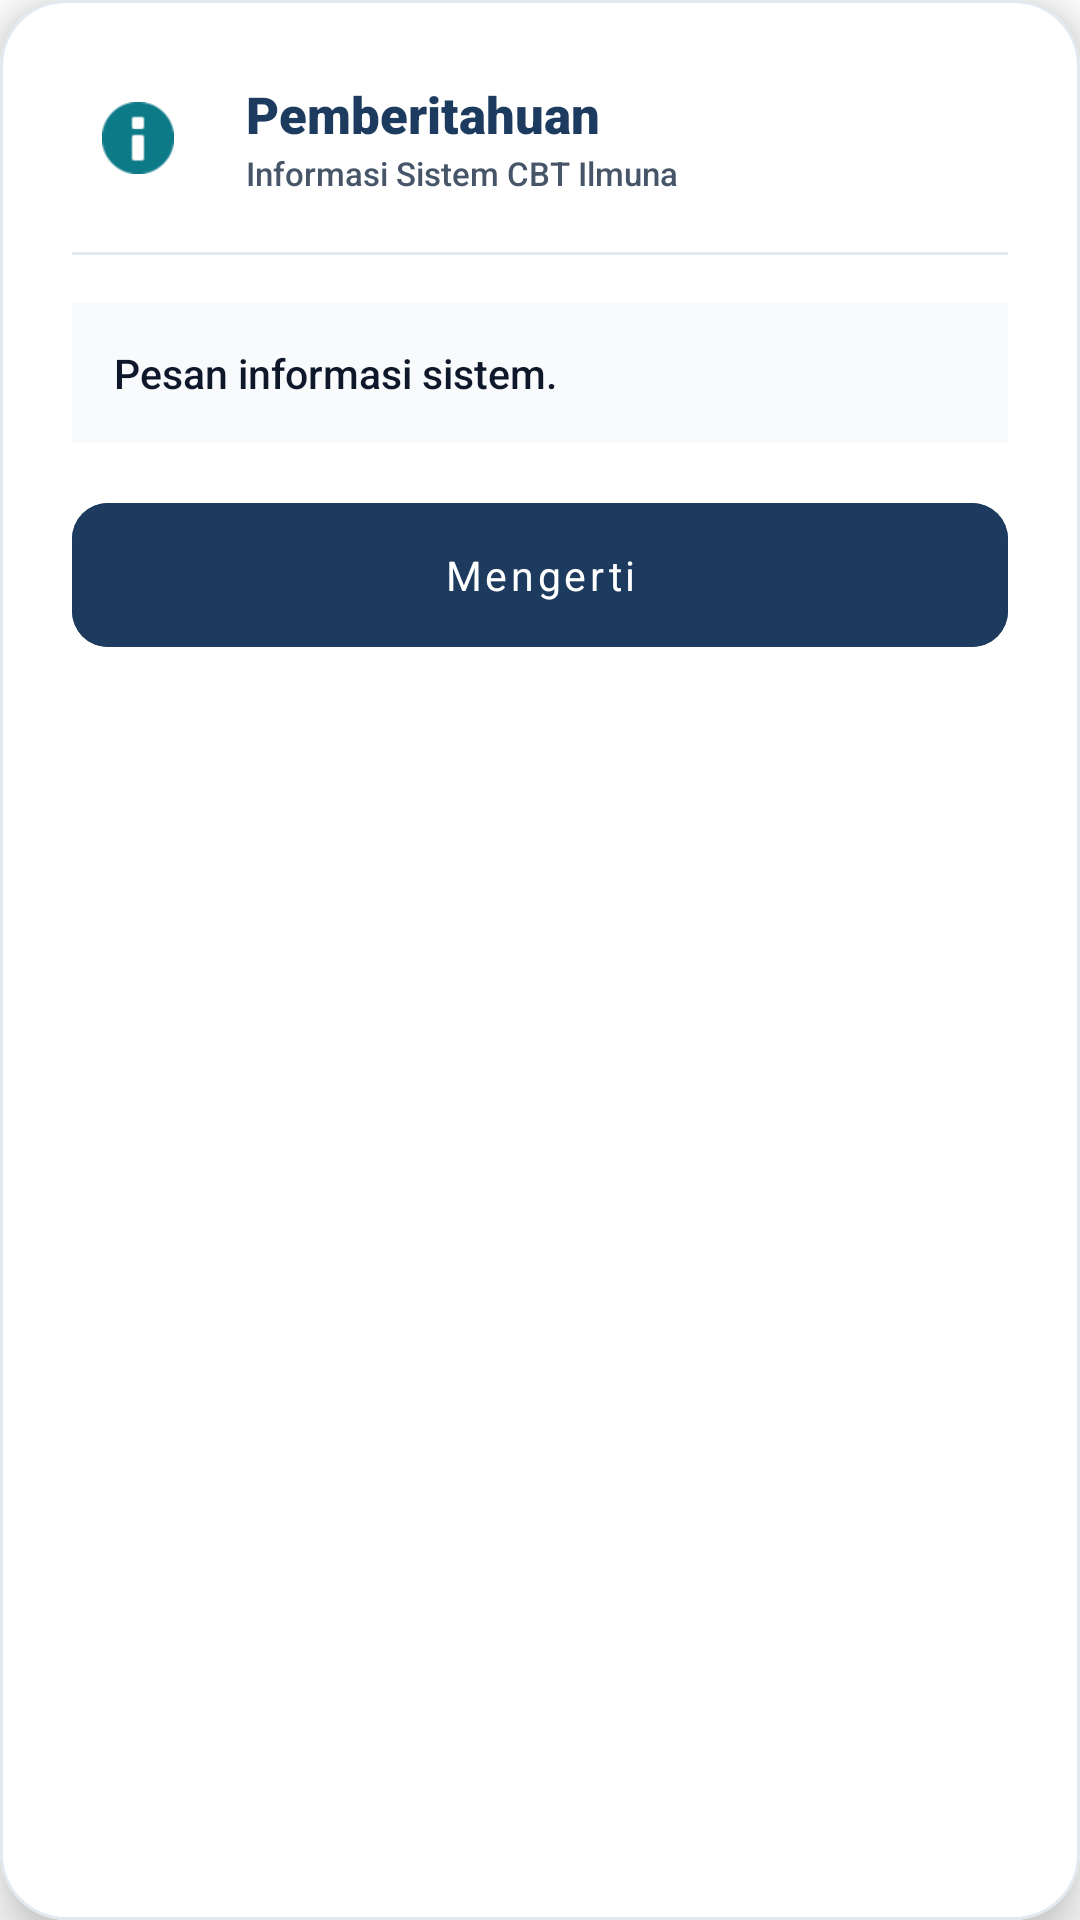

Screen size 1080*1920. Icon name, then its box in pixels as BBox(x1, y1, x2, y2):
Alert: BBox(102, 102, 174, 174)
